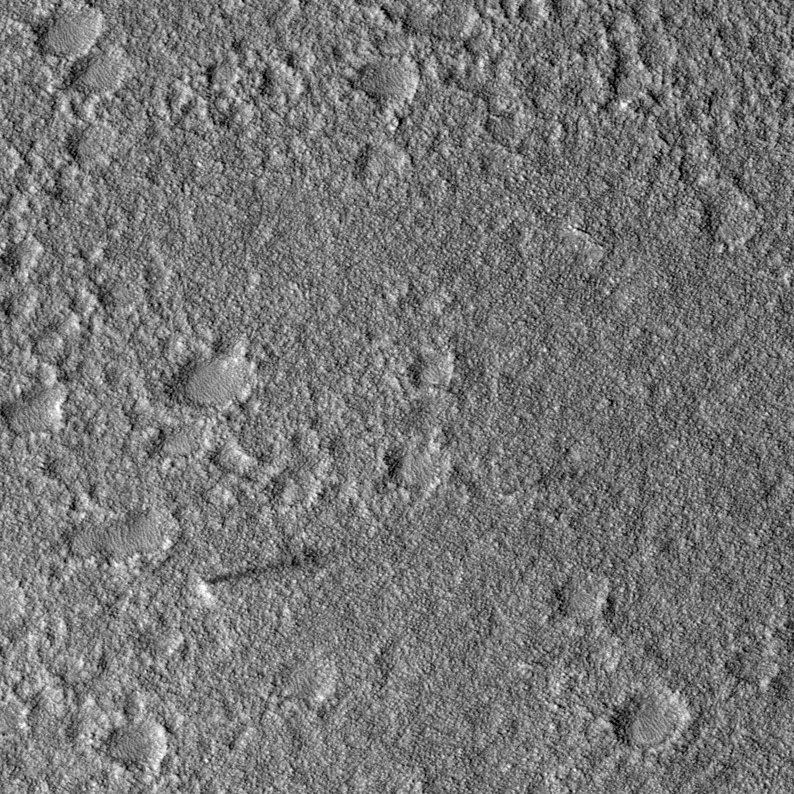dust_devil: (193, 544, 324, 608)
